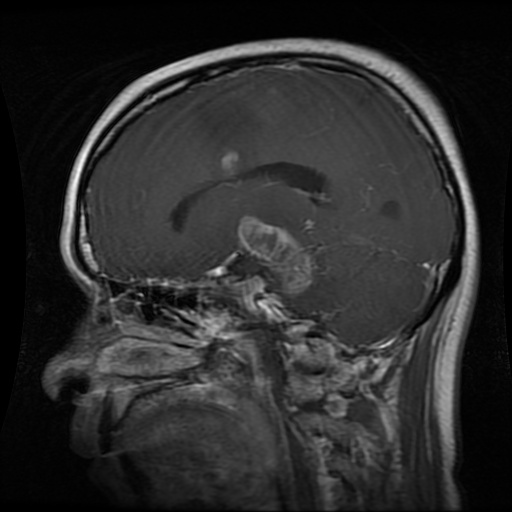glioma: (237, 214, 317, 297)
